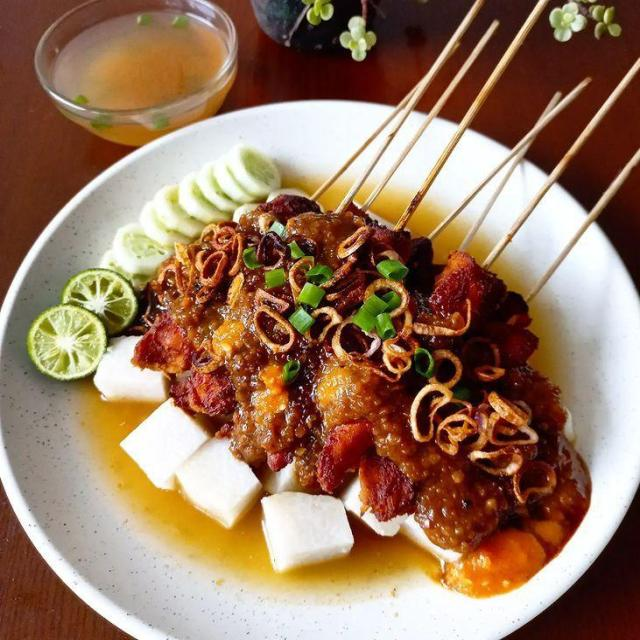Sate: (153, 59, 576, 516)
